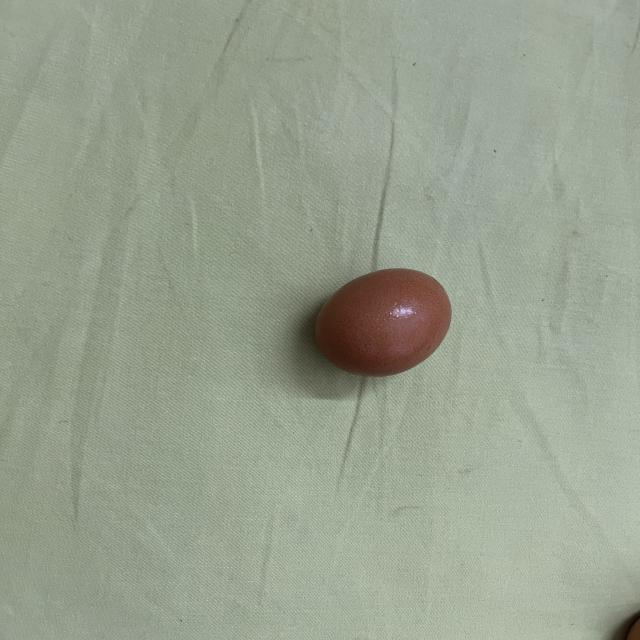egg: (308, 264, 457, 378)
